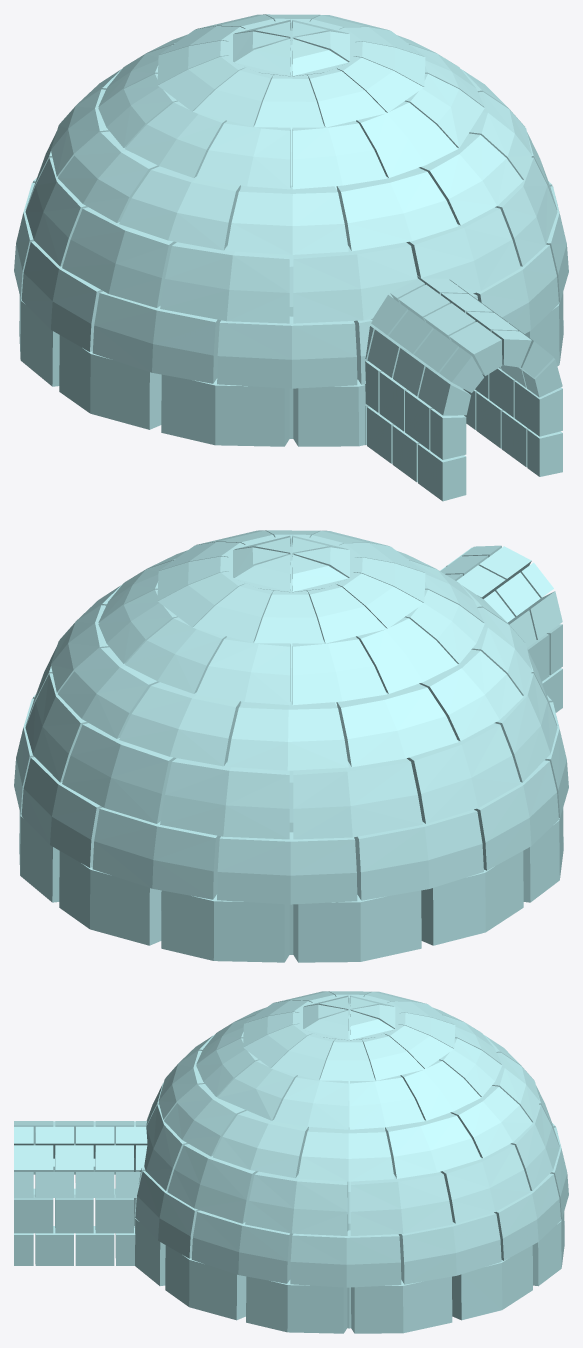
The model's file is igloo.fbx.
The picture shows the model from 3 angles, top to bottom: view 1: azimuth 30°, elevation 25°; view 2: azimuth 150°, elevation 25°; view 3: azimuth 270°, elevation 25°; orthographic projection. The views are drawn at different scales.
Visible parts, largest first — view 1: Node; view 2: Node; view 3: Node.
Boxes of the visible parts, left/top/right/bottom form: Node: left=14, top=14, right=568, bottom=501; Node: left=14, top=530, right=568, bottom=962; Node: left=14, top=991, right=568, bottom=1333.
Bounding box in the file's own units: 404 × 236 × 510.
